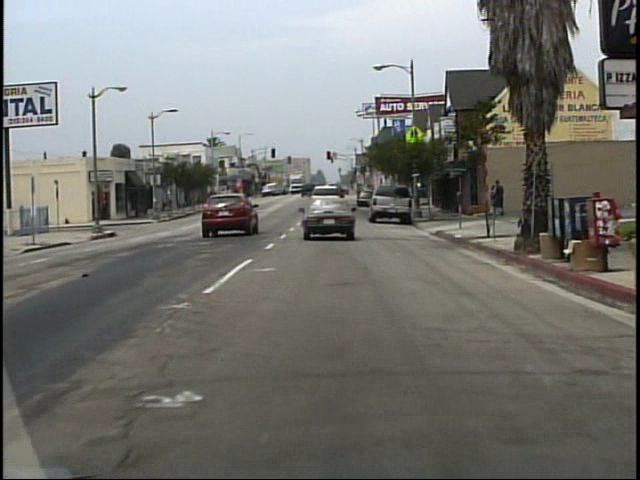person: (495, 178, 506, 216), (487, 183, 498, 216)
